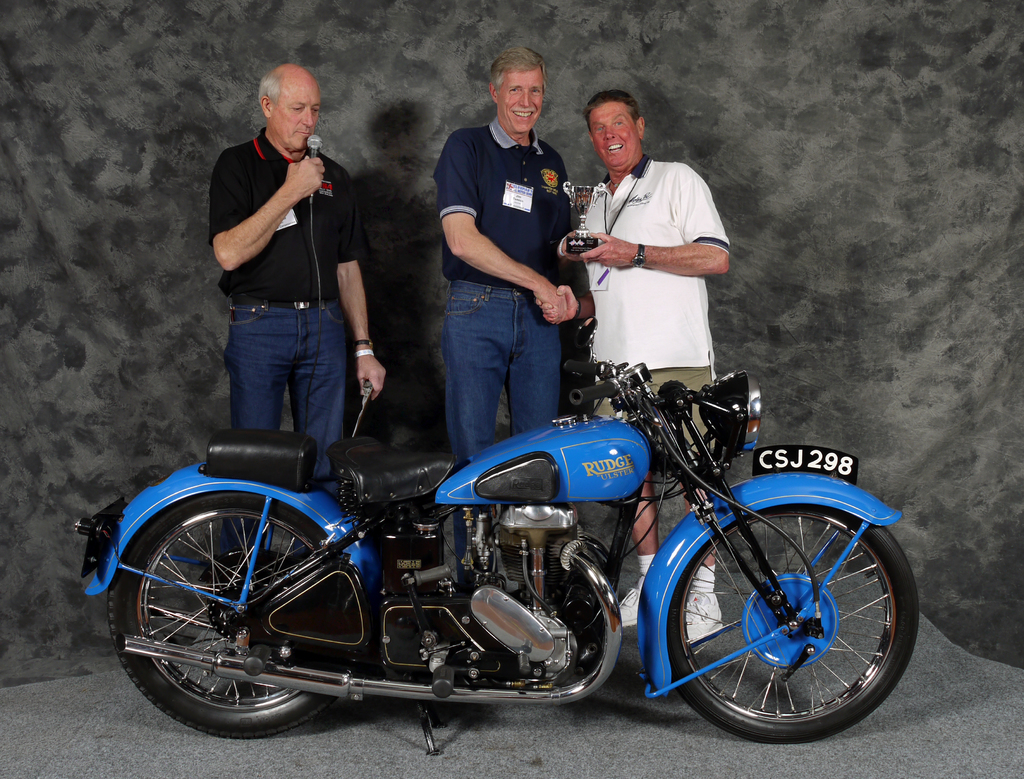Motorcycle: (72, 362, 920, 757)
